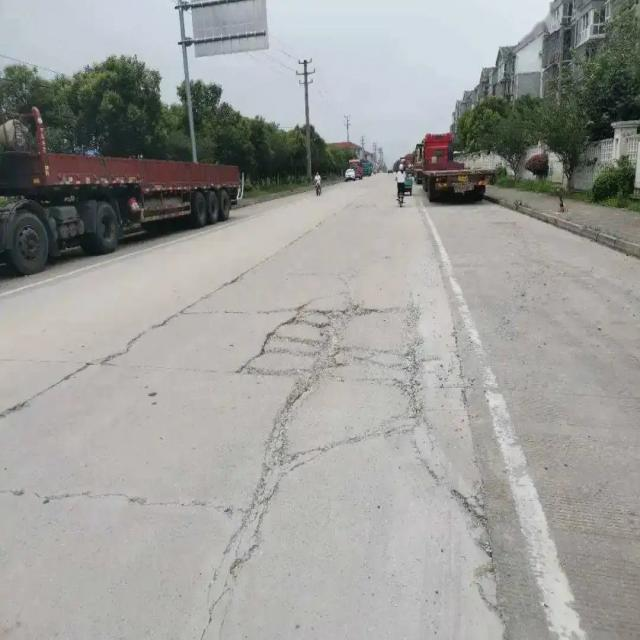Pothole: (236, 304, 439, 416)
